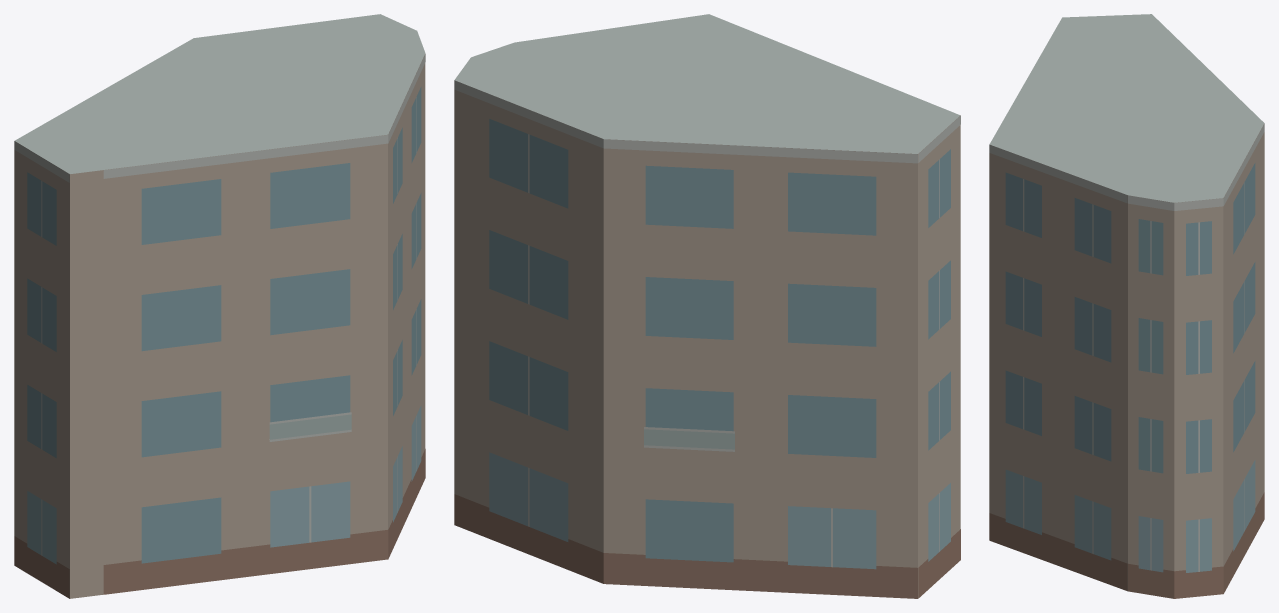
The model's file is survey-upis-32487301.glb.
3 views of the same model, side by side, from view 1: azimuth 30°, elevation 25°; view 2: azimuth 150°, elevation 25°; view 3: azimuth 270°, elevation 25° (orthographic). The views are drawn at different scales.
Parts seen in each view (by area): view 1: survey-upis-32487301.tmp; view 2: survey-upis-32487301.tmp; view 3: survey-upis-32487301.tmp.
Part boxes in pixels (<box>): survey-upis-32487301.tmp: <box>14,14,425,598</box>; survey-upis-32487301.tmp: <box>454,14,960,598</box>; survey-upis-32487301.tmp: <box>989,14,1264,598</box>.
Bounding box in the file's own units: 11.87 × 11.6 × 7.31.
